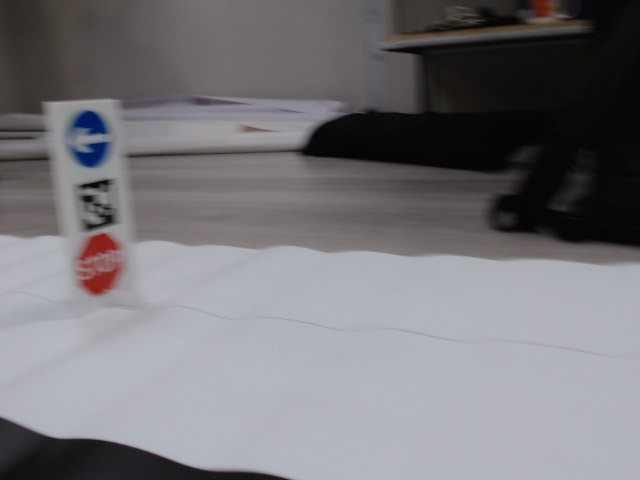Stop: (75, 235, 124, 296)
